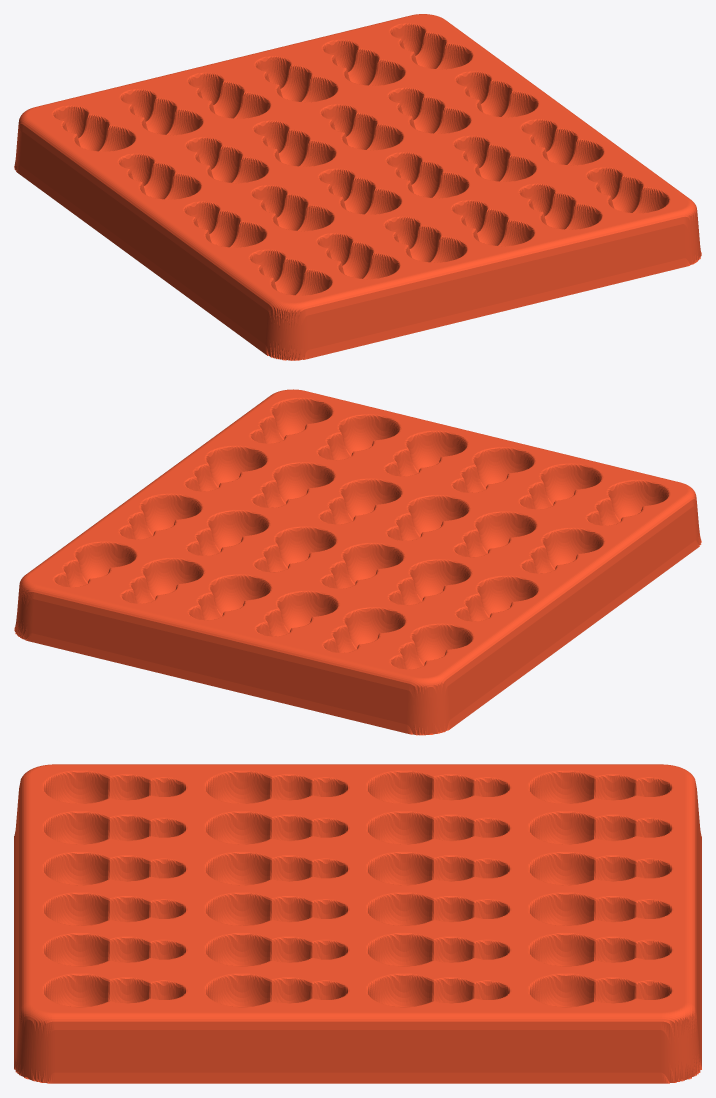
Rendered from mold.glb.
The picture shows the model from 3 angles, top to bottom: view 1: azimuth 30°, elevation 25°; view 2: azimuth 150°, elevation 25°; view 3: azimuth 270°, elevation 25°; orthographic projection. The views are drawn at different scales.
Visible parts, largest first — view 1: geometry_0; view 2: geometry_0; view 3: geometry_0.
Boxes of the visible parts, bbox=[...] form: geometry_0: bbox=[14, 14, 701, 360]; geometry_0: bbox=[14, 389, 701, 735]; geometry_0: bbox=[14, 764, 701, 1083].
Size of the model in its own units: 0.1387 by 0.0159 by 0.1546.
